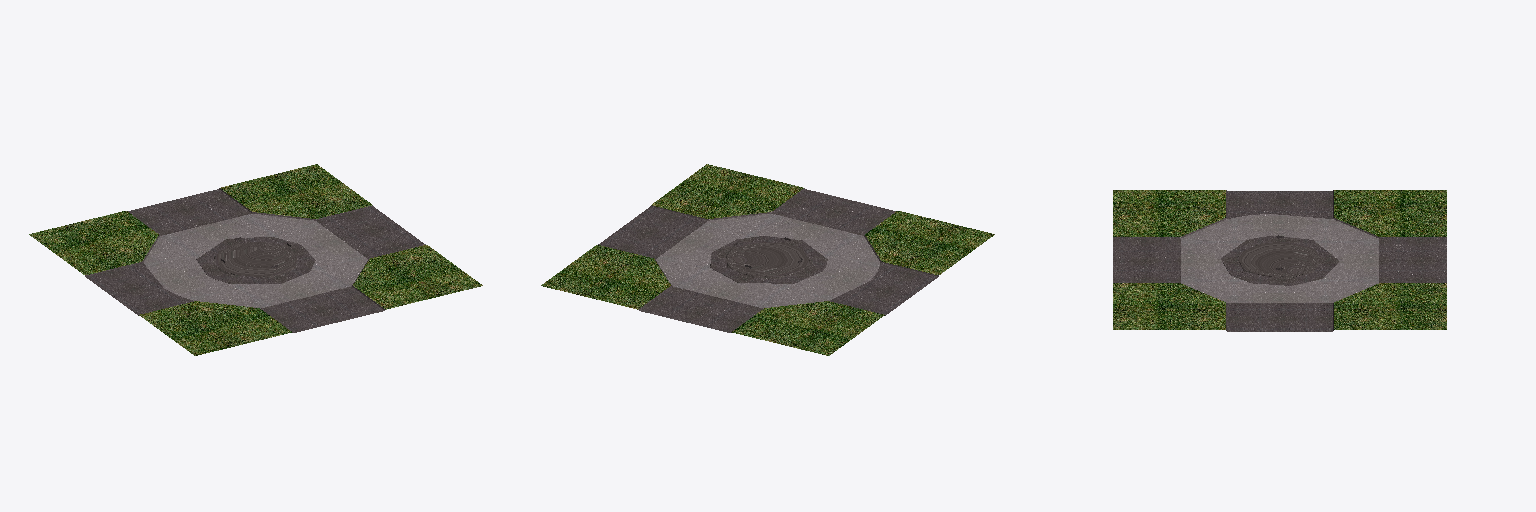
3 views of the same model, side by side, from view 1: azimuth 30°, elevation 25°; view 2: azimuth 150°, elevation 25°; view 3: azimuth 270°, elevation 25° (orthographic).
Parts seen in each view (by area): view 1: roundabout; view 2: roundabout; view 3: roundabout.
Boxes of the visible parts, x1,y1,x2,y2 form: roundabout: [29, 164, 482, 355]; roundabout: [541, 164, 994, 355]; roundabout: [1113, 190, 1446, 331].
Bounding box in the file's own units: 40 × 1.36 × 40.
4 materials, 3 textured.